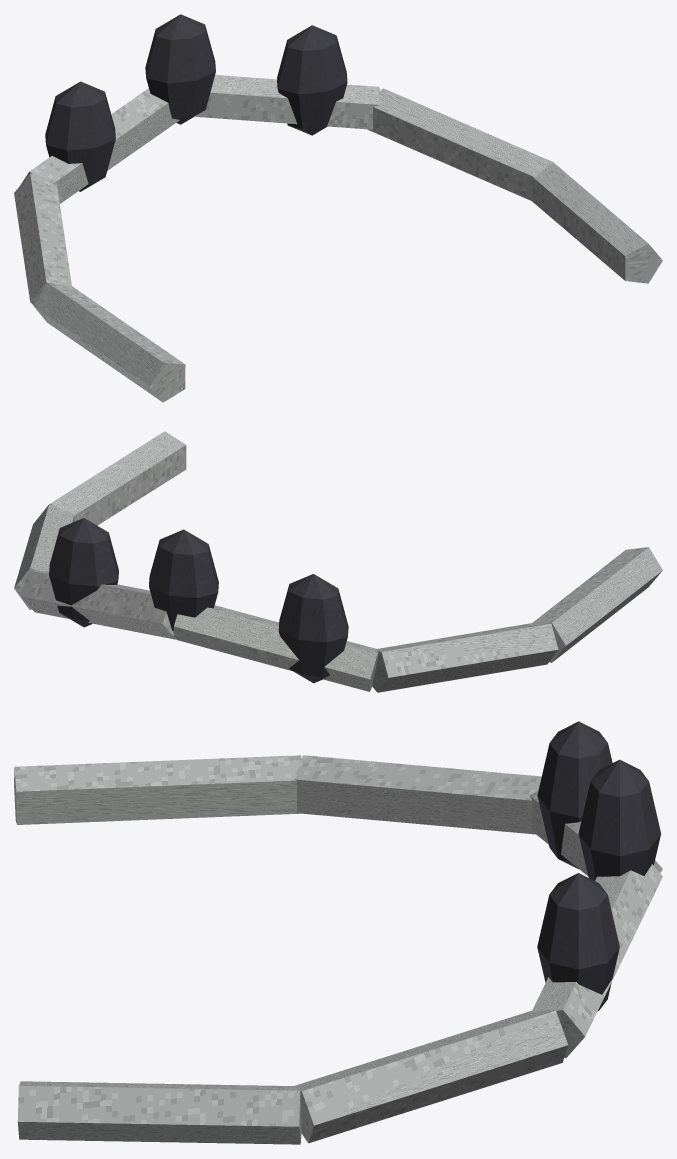
File: onyx_silver_tiara.glb
3 views of the same model, one above another, from view 1: azimuth 30°, elevation 25°; view 2: azimuth 150°, elevation 25°; view 3: azimuth 270°, elevation 25° (orthographic). The views are drawn at different scales.
Parts seen in each view (by area): view 1: block_set crown gemstone (×3), block_ornamental headband 4, block_ornamental headband 0, block_ornamental headband 5, block_ornamental headband 3, block_ornamental headband 1, block_ornamental headband 2; view 2: block_set crown gemstone (×3), block_ornamental headband 1, block_ornamental headband 2, block_ornamental headband 5, block_ornamental headband 0, block_ornamental headband 3, block_ornamental headband 4; view 3: block_set crown gemstone (×3), block_ornamental headband 0, block_ornamental headband 5, block_ornamental headband 4, block_ornamental headband 1, block_ornamental headband 3, block_ornamental headband 2.
Part boxes in pixels (x1,y1,x2,y2): block_set crown gemstone (×3): (45,14,347,191); block_ornamental headband 4: (367,88,553,201); block_ornamental headband 0: (34,282,185,402); block_ornamental headband 5: (532,163,662,283); block_ornamental headband 3: (194,75,380,129); block_ornamental headband 1: (14,173,71,305); block_ornamental headband 2: (21,88,179,203); block_set crown gemstone (×3): (49,518,348,683); block_ornamental headband 1: (372,623,558,692); block_ornamental headband 2: (173,605,378,691); block_ornamental headband 5: (50,431,186,525); block_ornamental headband 0: (532,547,662,662); block_ornamental headband 3: (20,570,176,639); block_ornamental headband 4: (14,504,74,609); block_set crown gemstone (×3): (537,721,661,1010); block_ornamental headband 0: (14,755,301,824); block_ornamental headband 5: (17,1081,301,1144); block_ornamental headband 4: (293,1009,568,1143); block_ornamental headband 1: (293,755,541,834); block_ornamental headband 3: (531,864,662,1058); block_ornamental headband 2: (529,791,662,875).
Size of the model in its own units: 0.129 by 0.0381 by 0.1014.
1 material, 1 textured.
